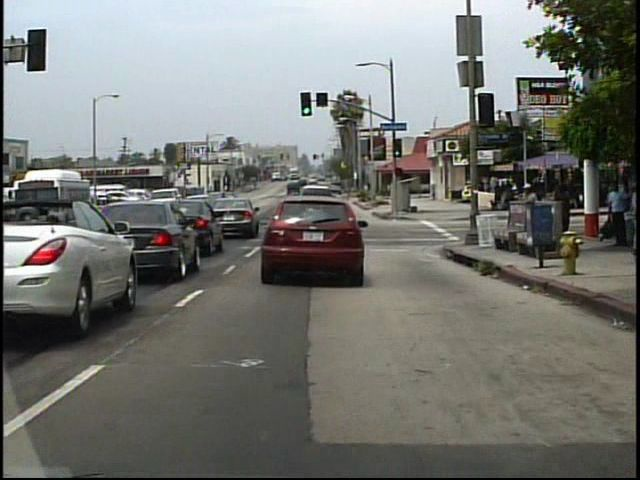person: (515, 179, 540, 242), (554, 177, 575, 246), (604, 181, 624, 248)
